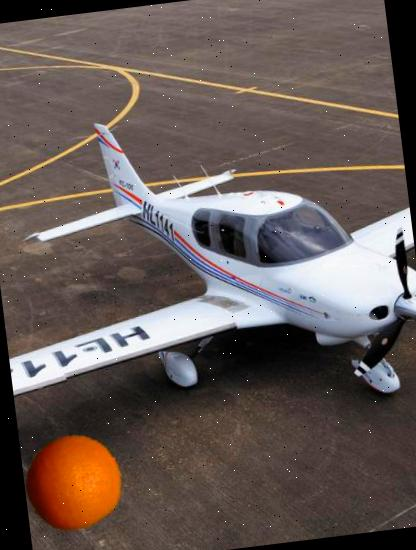Orange: (18, 428, 127, 536)
